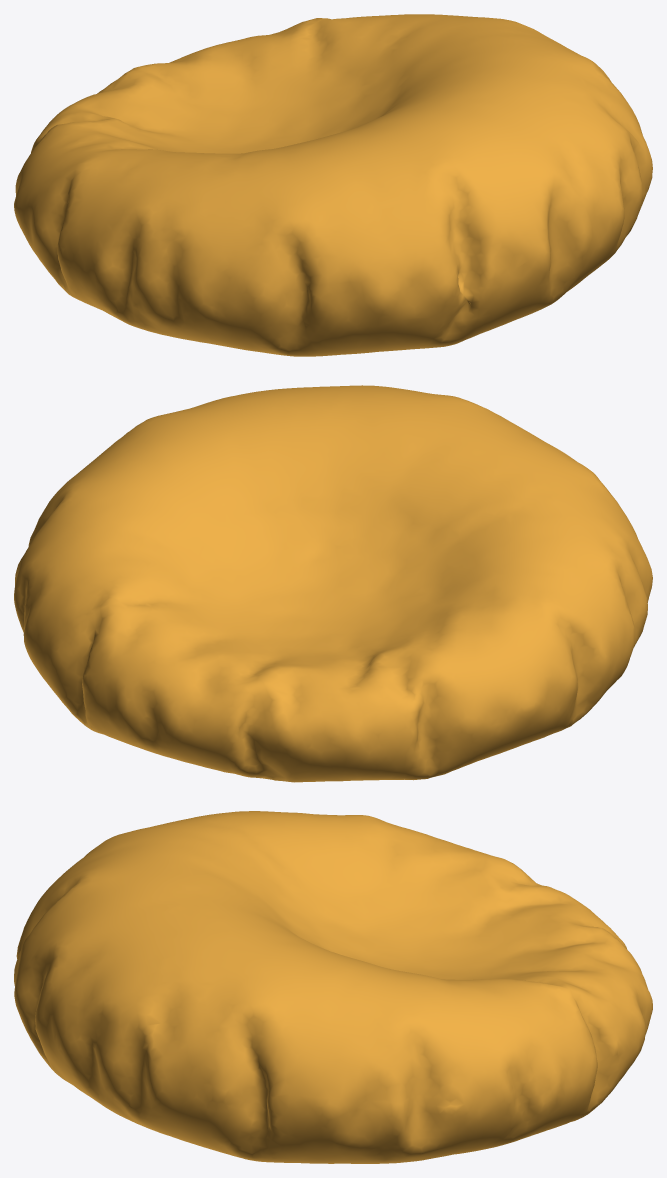
Rendered from beanbag.glb.
The picture shows the model from 3 angles, top to bottom: view 1: azimuth 30°, elevation 25°; view 2: azimuth 150°, elevation 25°; view 3: azimuth 270°, elevation 25°; orthographic projection.
Visible parts, largest first — view 1: Object_4; view 2: Object_4; view 3: Object_4.
Part boxes in pixels (x1=…): Object_4: x1=14, y1=14, x2=652, y2=356; Object_4: x1=14, y1=385, x2=652, y2=782; Object_4: x1=14, y1=811, x2=652, y2=1163.
Size of the model in its own units: 1.55 by 0.5089 by 1.55.
